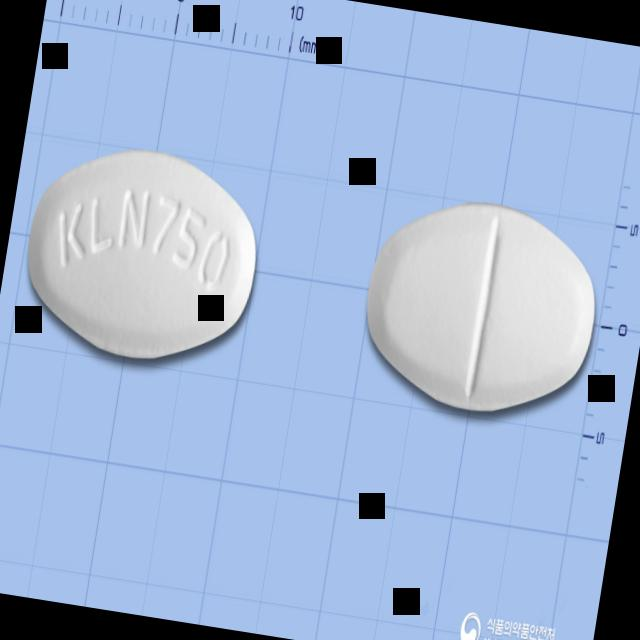Ciroxin: (353, 186, 611, 430), (13, 134, 272, 375)
